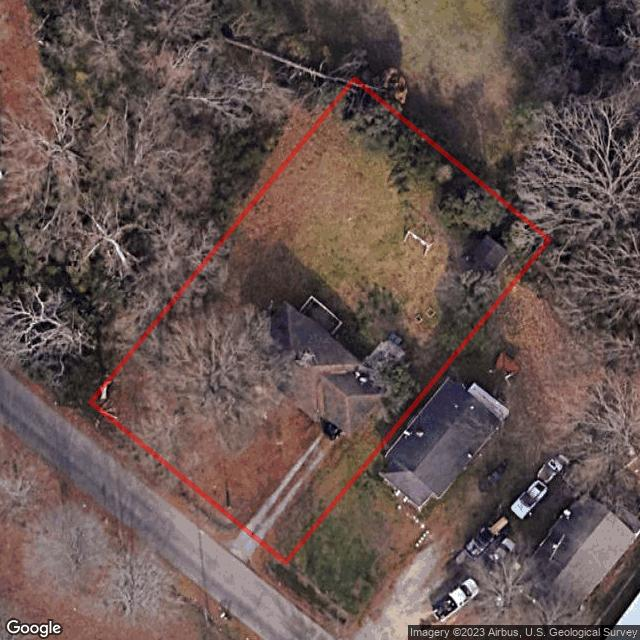Driveway: (246, 425, 342, 538)
Extra Driveway: (229, 531, 258, 561)
Extra Sidewalk: (70, 401, 243, 551), (246, 545, 286, 587)
House: (239, 302, 389, 434)
Other: (461, 232, 511, 274), (362, 335, 408, 378), (300, 295, 342, 334)
